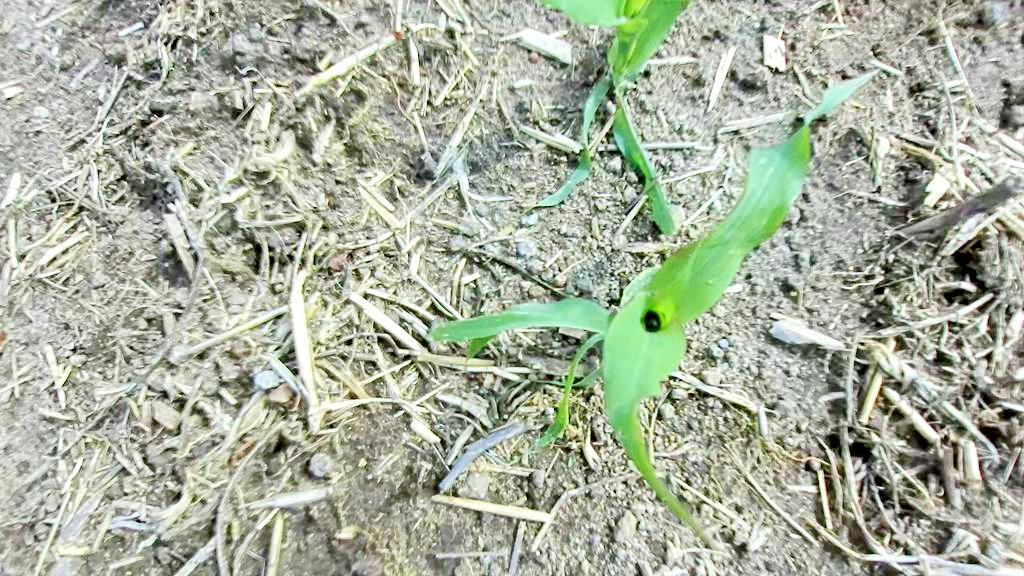BroWeed: (334, 524, 376, 542), (507, 453, 522, 468)
